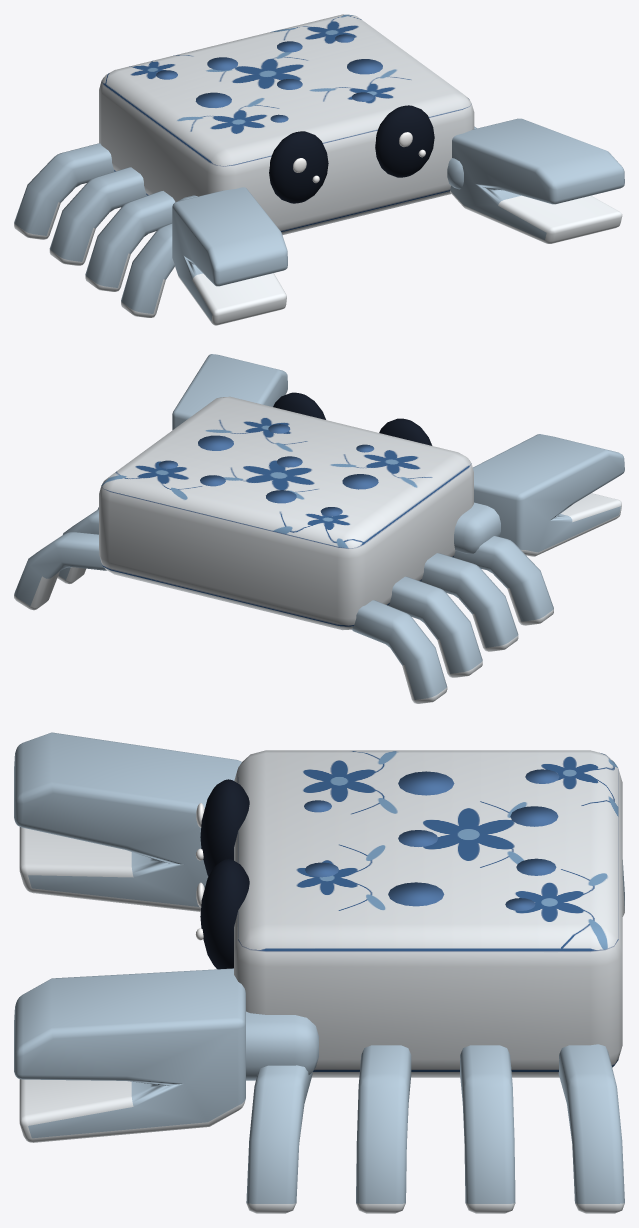
File: PorcelainCrab.fbx
3 views of the same model, one above another, from view 1: azimuth 30°, elevation 25°; view 2: azimuth 150°, elevation 25°; view 3: azimuth 270°, elevation 25° (orthographic). The views are drawn at different scales.
Parts seen in each view (by area): view 1: PorcelainCrab_Body, PorcelainCrab, PorcelainCrab_Claw_R, PorcelainCrab_Claw_L, PorcelainCrab_Eye_R, PorcelainCrab_Eye_L, PorcelainCrab_Arm_R; view 2: PorcelainCrab_Body, PorcelainCrab, PorcelainCrab_Claw_L, PorcelainCrab_Claw_R, PorcelainCrab_Arm_L, PorcelainCrab_Eye_R, PorcelainCrab_Eye_L; view 3: PorcelainCrab_Body, PorcelainCrab, PorcelainCrab_Claw_R, PorcelainCrab_Claw_L, PorcelainCrab_Arm_R, PorcelainCrab_Eye_R, PorcelainCrab_Eye_L.
Part boxes in pixels (x1=…): PorcelainCrab_Body: x1=99, y1=14, x2=474, y2=235; PorcelainCrab: x1=14, y1=34, x2=476, y2=317; PorcelainCrab_Claw_R: x1=450, y1=118, x2=624, y2=243; PorcelainCrab_Claw_L: x1=172, y1=187, x2=287, y2=325; PorcelainCrab_Eye_R: x1=375, y1=105, x2=434, y2=177; PorcelainCrab_Eye_L: x1=269, y1=131, x2=328, y2=203; PorcelainCrab_Arm_R: x1=447, y1=158, x2=463, y2=189; PorcelainCrab_Body: x1=99, y1=396, x2=473, y2=630; PorcelainCrab: x1=14, y1=424, x2=553, y2=703; PorcelainCrab_Claw_L: x1=473, y1=434, x2=624, y2=556; PorcelainCrab_Claw_R: x1=172, y1=354, x2=287, y2=429; PorcelainCrab_Arm_L: x1=454, y1=502, x2=500, y2=553; PorcelainCrab_Eye_R: x1=273, y1=392, x2=325, y2=419; PorcelainCrab_Eye_L: x1=379, y1=418, x2=432, y2=445; PorcelainCrab_Body: x1=234, y1=750, x2=622, y2=1077; PorcelainCrab: x1=246, y1=769, x2=624, y2=1213; PorcelainCrab_Claw_R: x1=14, y1=968, x2=245, y2=1142; PorcelainCrab_Claw_L: x1=14, y1=732, x2=241, y2=911; PorcelainCrab_Arm_R: x1=246, y1=1011, x2=318, y2=1080; PorcelainCrab_Eye_R: x1=200, y1=859, x2=249, y2=969; PorcelainCrab_Eye_L: x1=200, y1=779, x2=249, y2=876.
Bounding box in the file's own units: 374 × 134 × 305.
2 materials, 2 textured.
